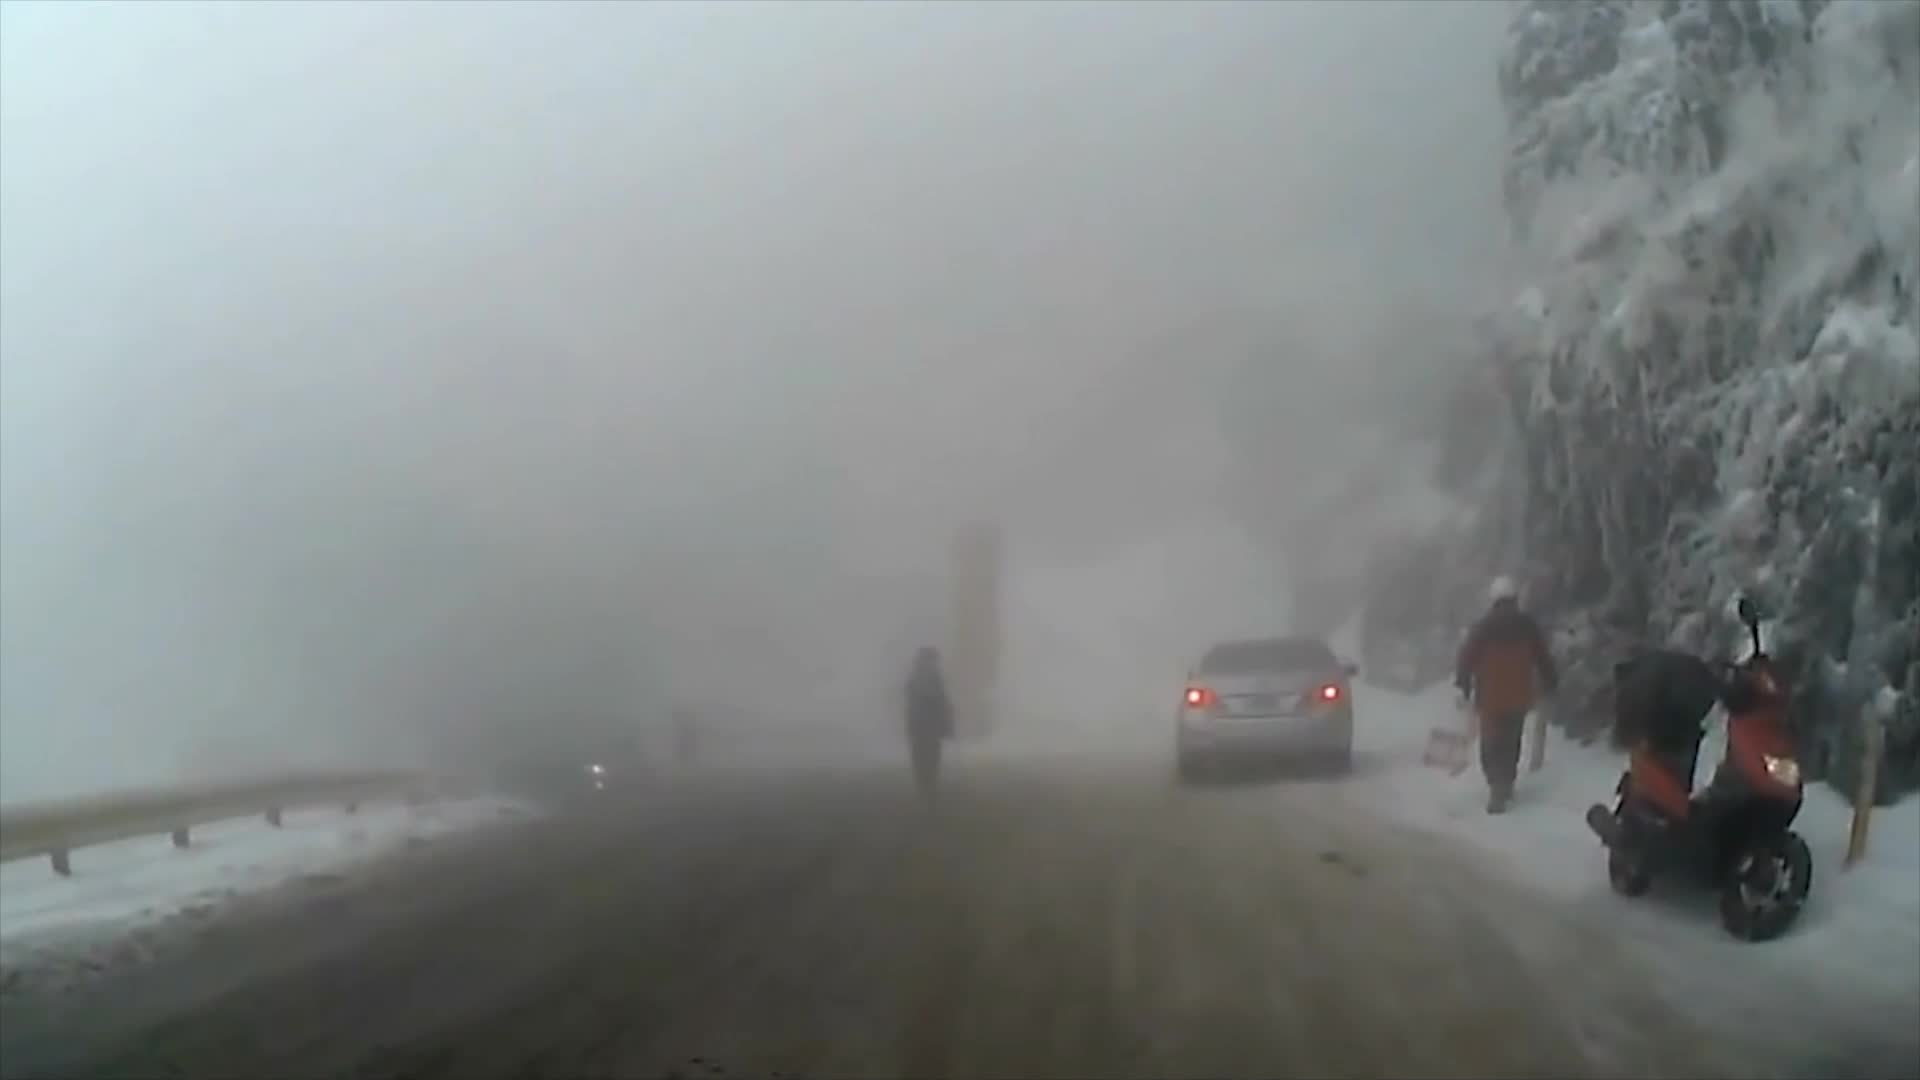pedestrian: (1454, 570, 1558, 815), (900, 642, 949, 800)
vehicle: (1173, 633, 1359, 785)
